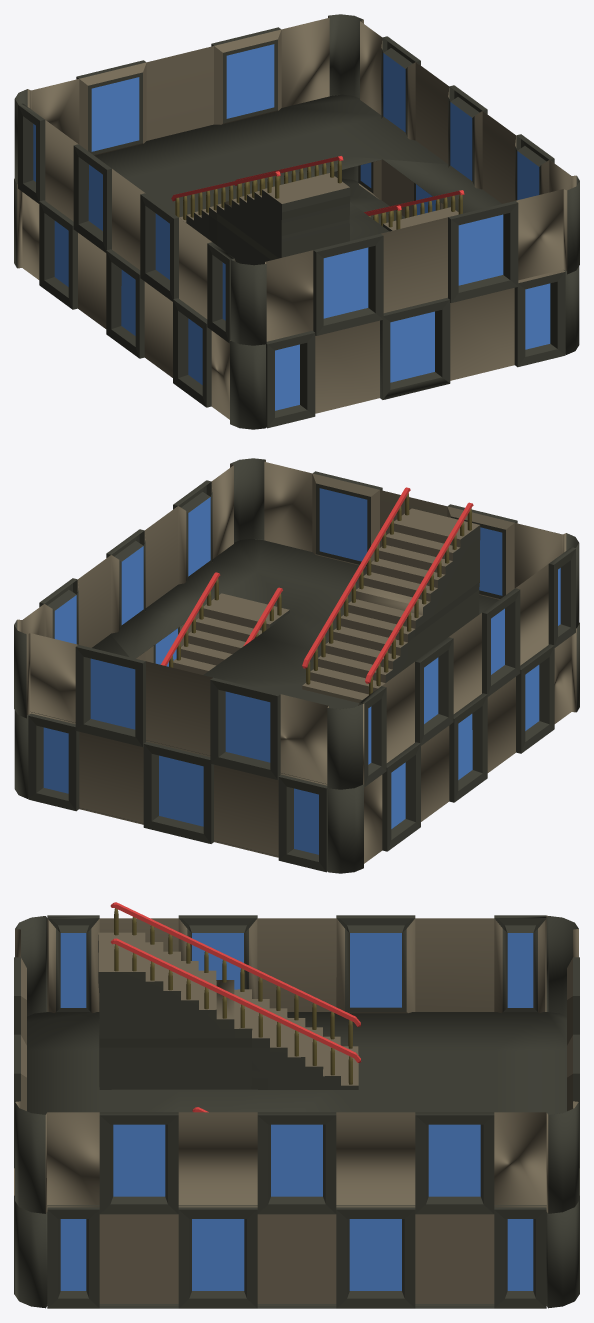
File: Hotel Interior 4.fbx
3 renders of one model, top to bottom at view 1: azimuth 30°, elevation 25°; view 2: azimuth 150°, elevation 25°; view 3: azimuth 270°, elevation 25°, orthographic. The views are drawn at different scales.
Visible parts, largest first — view 1: hotel basado.019; view 2: hotel basado.019; view 3: hotel basado.019.
Part boxes in pixels (bbox=[...]): hotel basado.019: bbox=[14, 14, 579, 429]; hotel basado.019: bbox=[14, 458, 579, 873]; hotel basado.019: bbox=[14, 902, 579, 1308].
Size of the model in its own units: 1864 by 1152 by 2225.
